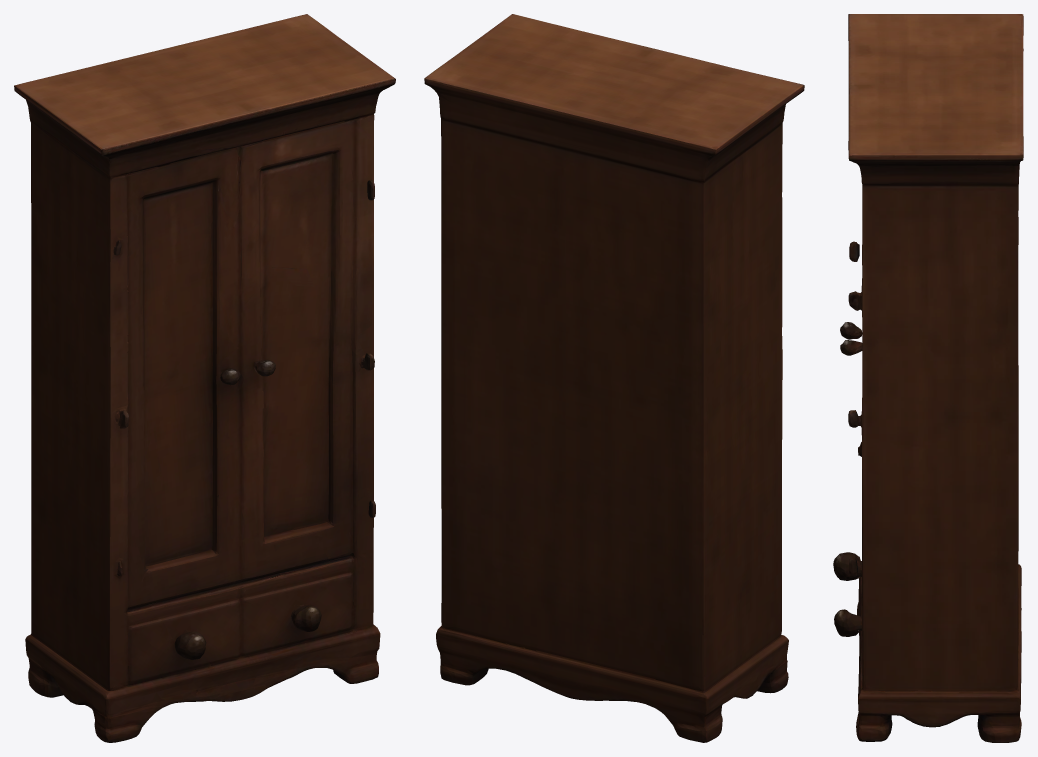
The model's file is closed_wardrobe.glb.
3 renders of one model, left to right at view 1: azimuth 30°, elevation 25°; view 2: azimuth 150°, elevation 25°; view 3: azimuth 270°, elevation 25°, orthographic.
Visible parts, largest first — view 1: geometry_0; view 2: geometry_0; view 3: geometry_0.
Boxes of the visible parts, <box> form: geometry_0: <box>14,14,395,742</box>; geometry_0: <box>424,14,804,742</box>; geometry_0: <box>833,14,1023,742</box>.
Size of the model in its own units: 0.5107 by 1 by 0.2904.
Materials: 1 (1 with a texture image).
